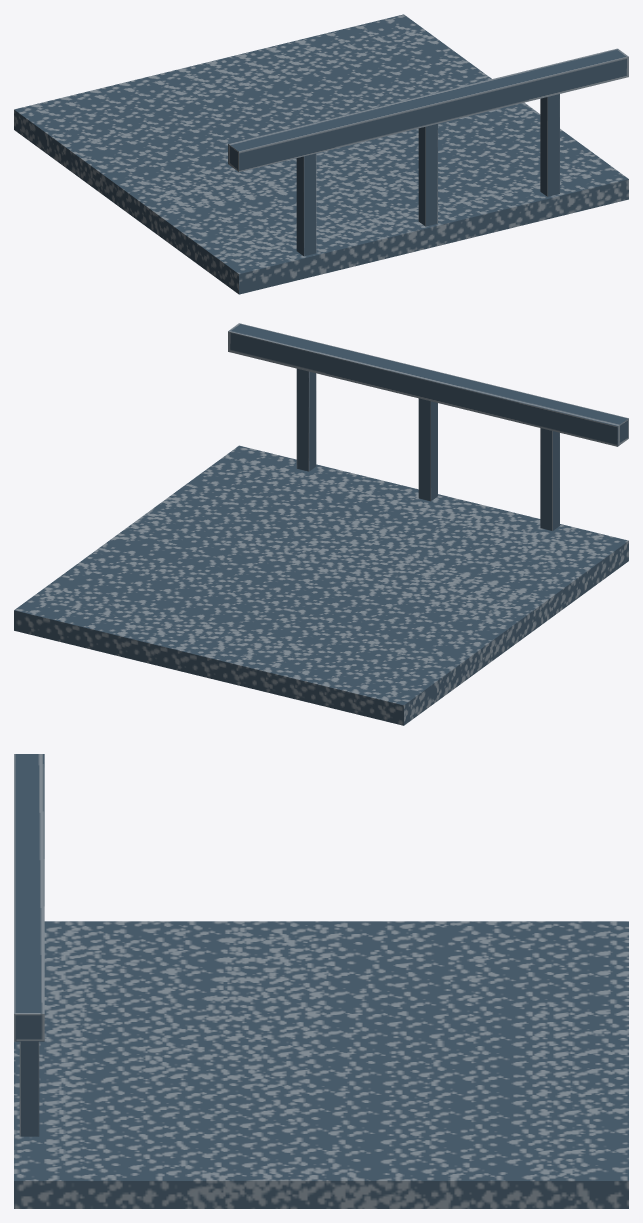
File: balcony.fbx
3 views of the same model, one above another, from view 1: azimuth 30°, elevation 25°; view 2: azimuth 150°, elevation 25°; view 3: azimuth 270°, elevation 25° (orthographic). The views are drawn at different scales.
Parts seen in each view (by area): view 1: balconyBase, balconyRailing, balconyBanister3, balconyBanister2, balconyBanister1; view 2: balconyBase, balconyRailing, balconyBanister2, balconyBanister3, balconyBanister1; view 3: balconyBase, balconyRailing, balconyBanister2.
Boxes of the visible parts, <box> form: balconyBase: <box>14,14,628,294</box>; balconyRailing: <box>228,48,628,171</box>; balconyBanister3: <box>296,153,316,256</box>; balconyBanister2: <box>540,94,559,196</box>; balconyBanister1: <box>418,124,437,226</box>; balconyBase: <box>14,445,628,725</box>; balconyRailing: <box>228,323,628,446</box>; balconyBanister2: <box>296,368,316,471</box>; balconyBanister3: <box>540,428,559,530</box>; balconyBanister1: <box>418,398,437,501</box>; balconyBase: <box>14,921,628,1208</box>; balconyRailing: <box>14,754,44,1041</box>; balconyBanister2: <box>19,1041,39,1136</box>.
Bounding box in the file's own units: 0.04 × 0.04 × 0.014.
Materials: 1 (1 with a texture image).
